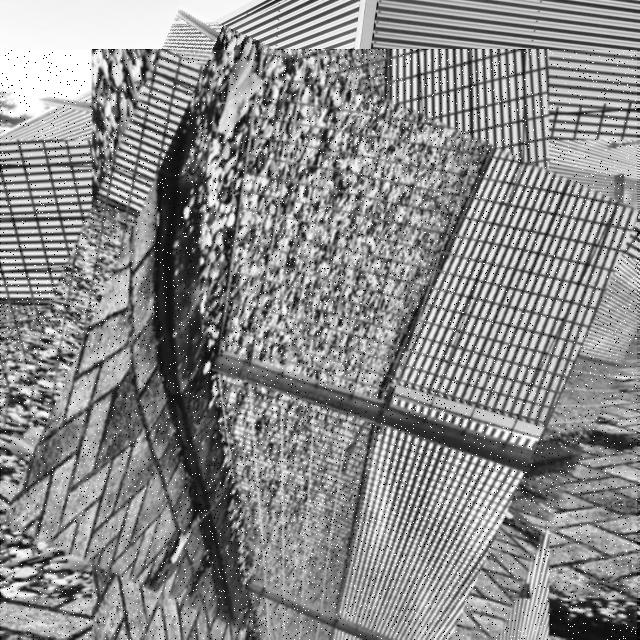fences: (1, 50, 637, 640)
